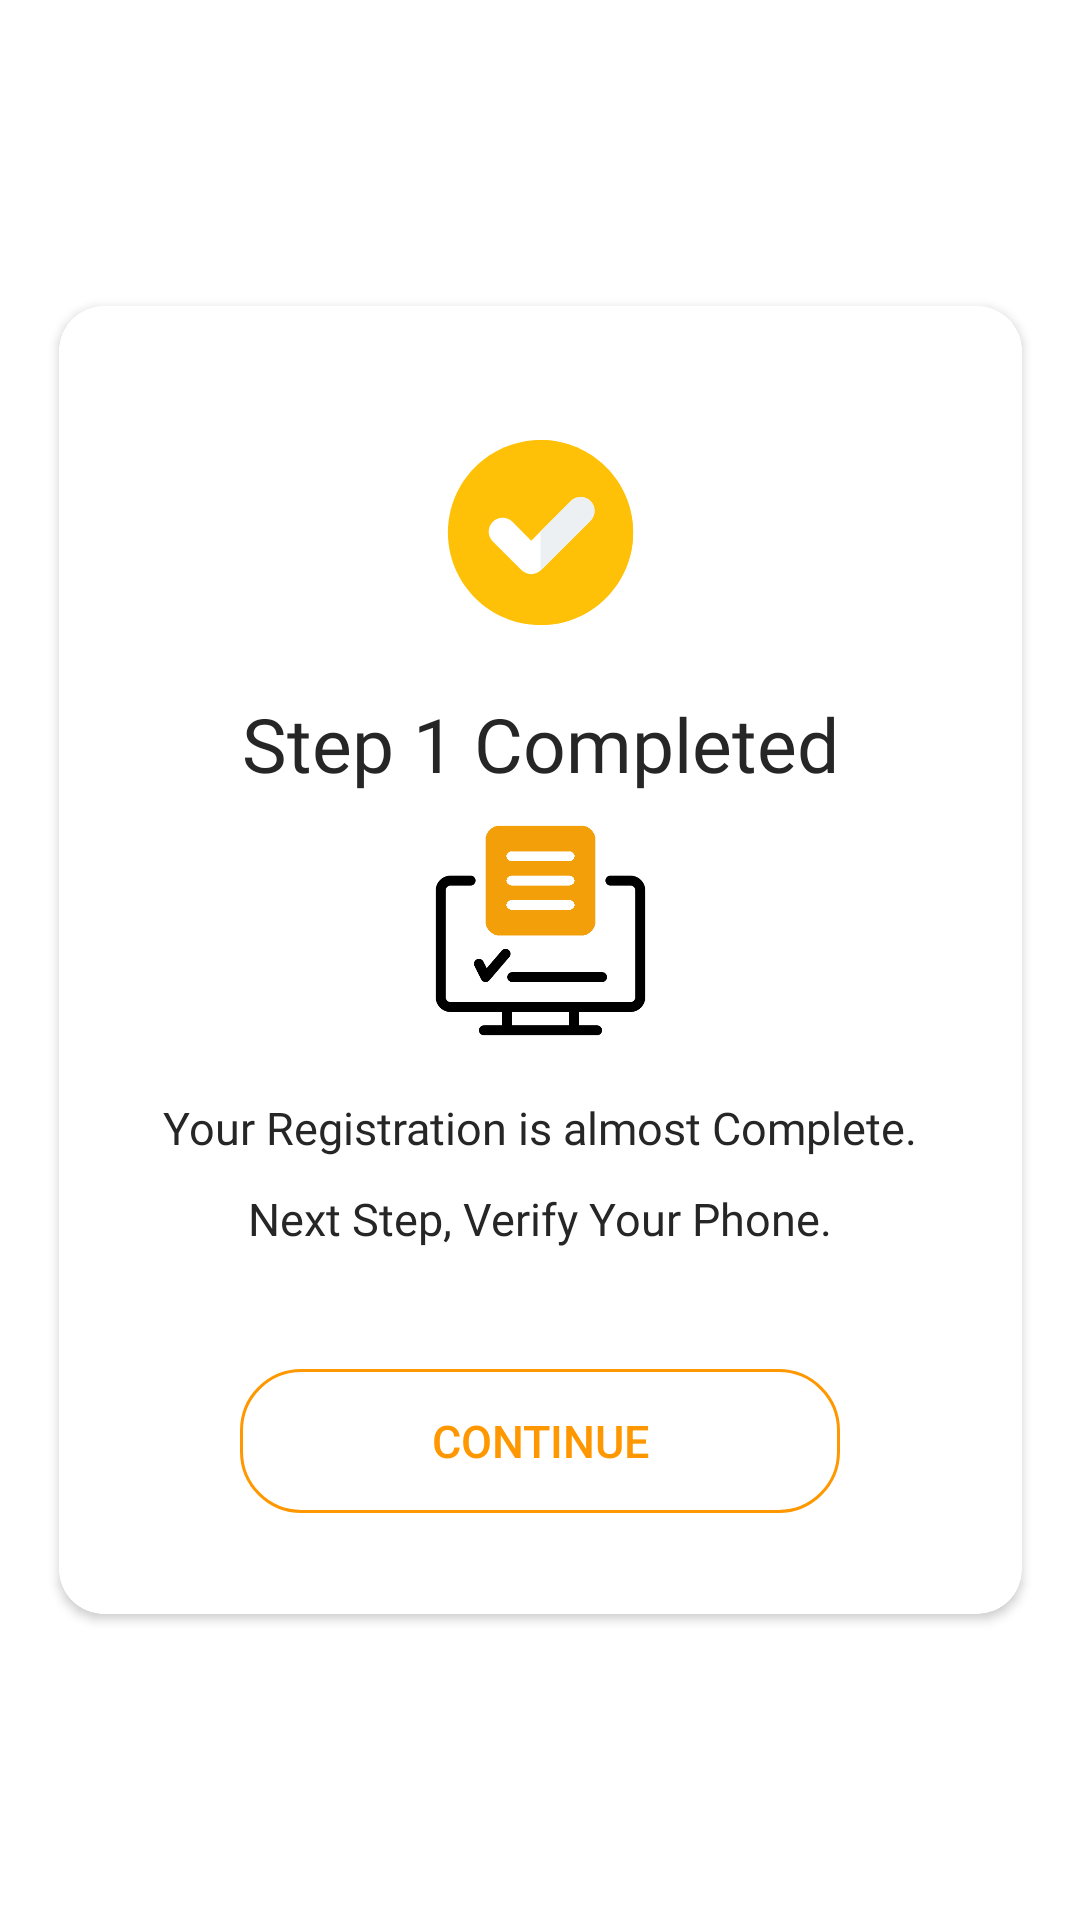

Named icons in this screenshot (1080x1920) and their centers, point (x, y):
success: point (540, 532)
